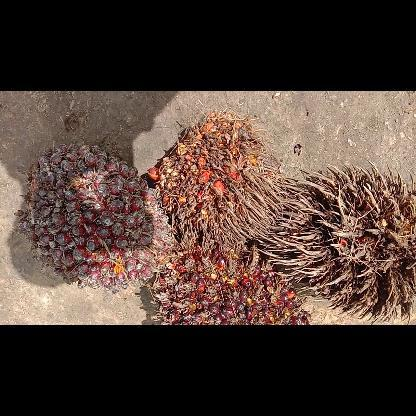Janjang kosong: (250, 158, 414, 322)
Kurang masak: (17, 136, 180, 291)
TBS masak: (145, 232, 315, 324)
Terlalu masak: (145, 108, 290, 252)
